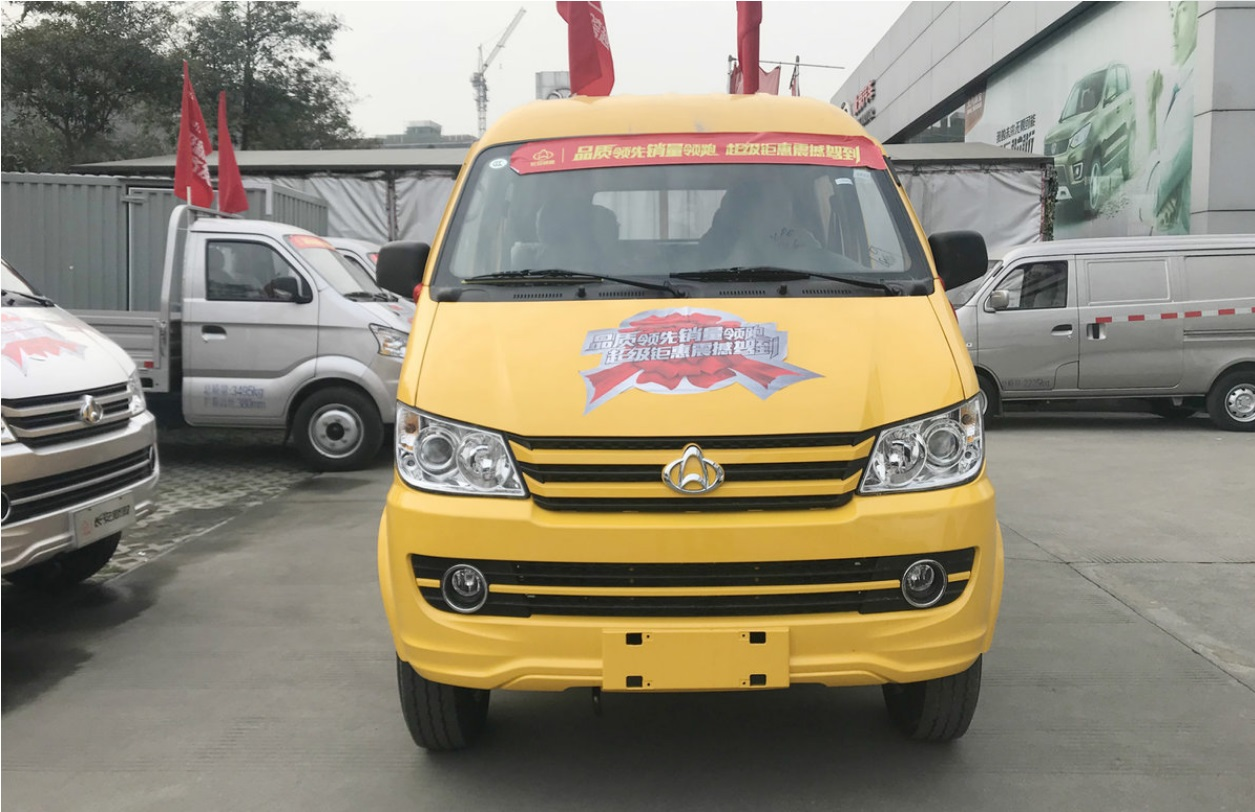truck: (375, 89, 1010, 756)
